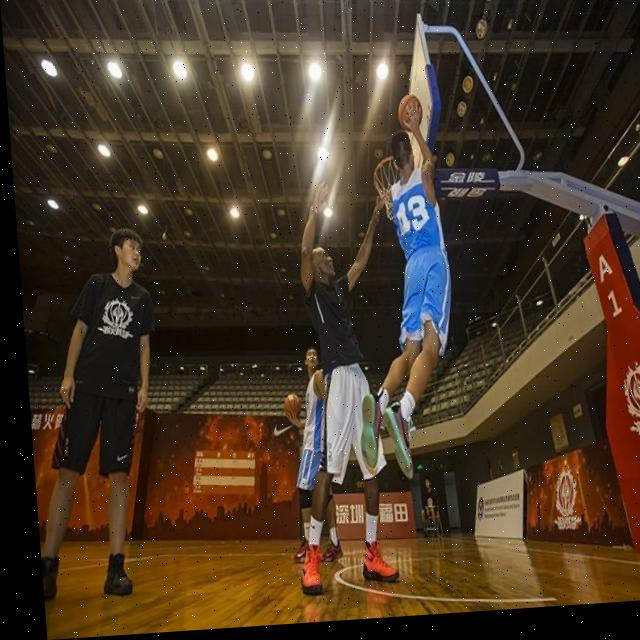basketball: (397, 91, 425, 131), (283, 393, 302, 420)
hoop: (371, 151, 406, 220)
